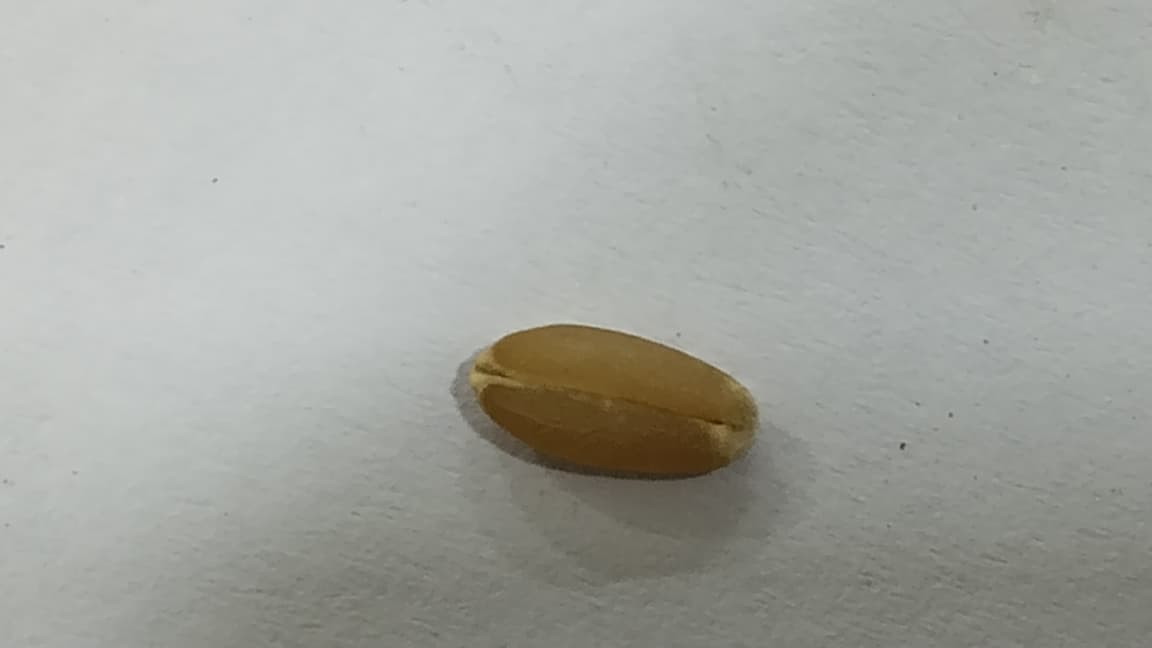healthy: (470, 324, 756, 475)
